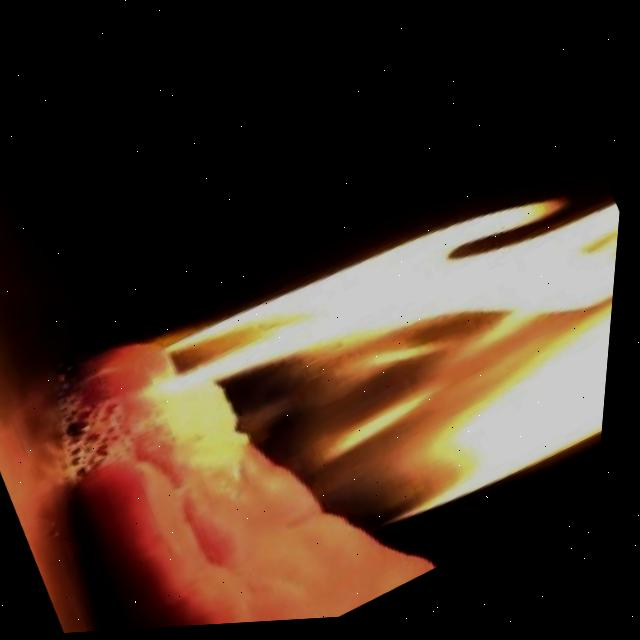Fire: (94, 121, 630, 634)
